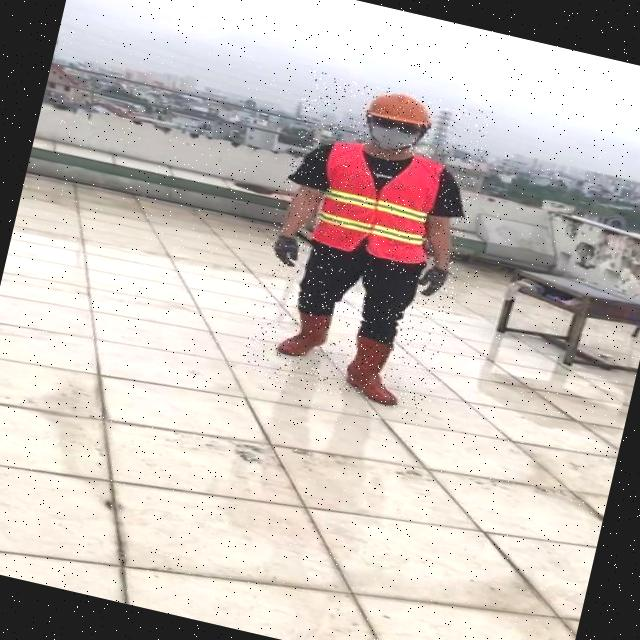vest: (308, 136, 447, 267)
